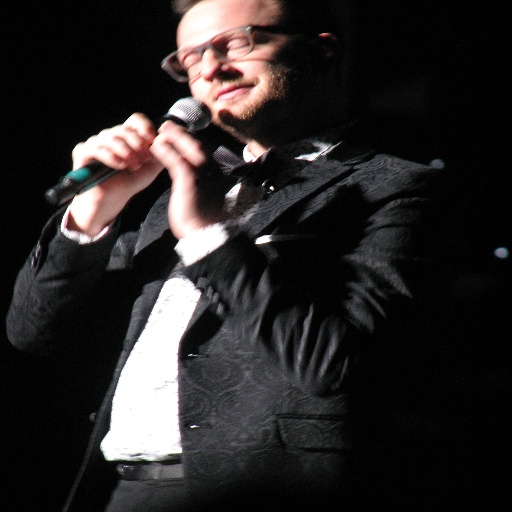hand: (51, 116, 200, 205), (144, 116, 229, 240)
